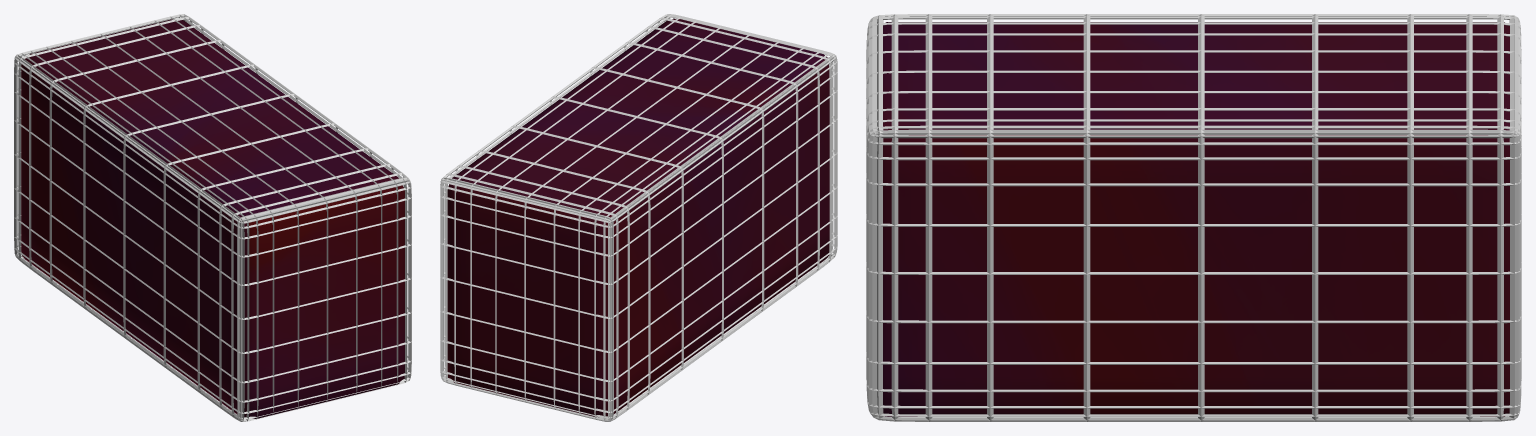
The model's file is block.fbx.
3 views of the same model, side by side, from view 1: azimuth 30°, elevation 25°; view 2: azimuth 150°, elevation 25°; view 3: azimuth 270°, elevation 25° (orthographic). The views are drawn at different scales.
Parts seen in each view (by area): view 1: Cube, Cube.001; view 2: Cube, Cube.001; view 3: Cube, Cube.001.
Part boxes in pixels (x1,y1,x2,y2): Cube: (21,19,404,418); Cube.001: (14,14,411,421); Cube: (447,19,829,417); Cube.001: (440,14,837,421); Cube: (883,22,1509,416); Cube.001: (866,14,1521,421).
Size of the model in its own units: 69.08 by 78.62 by 158.
